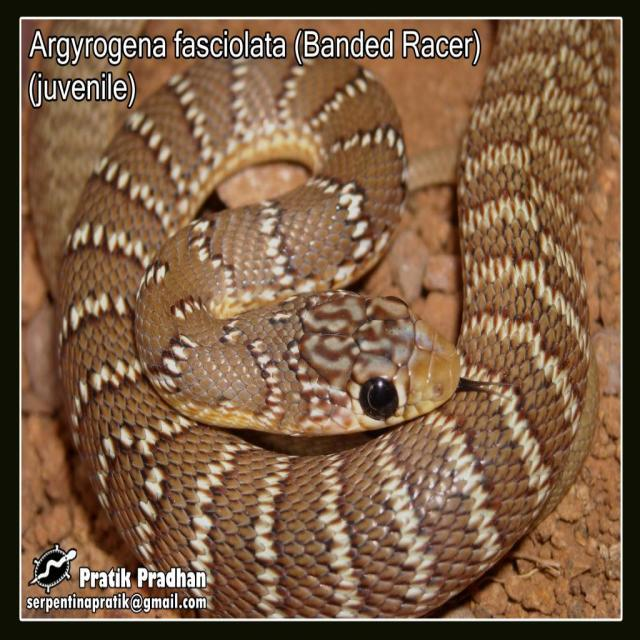Snake: (50, 19, 618, 619)
